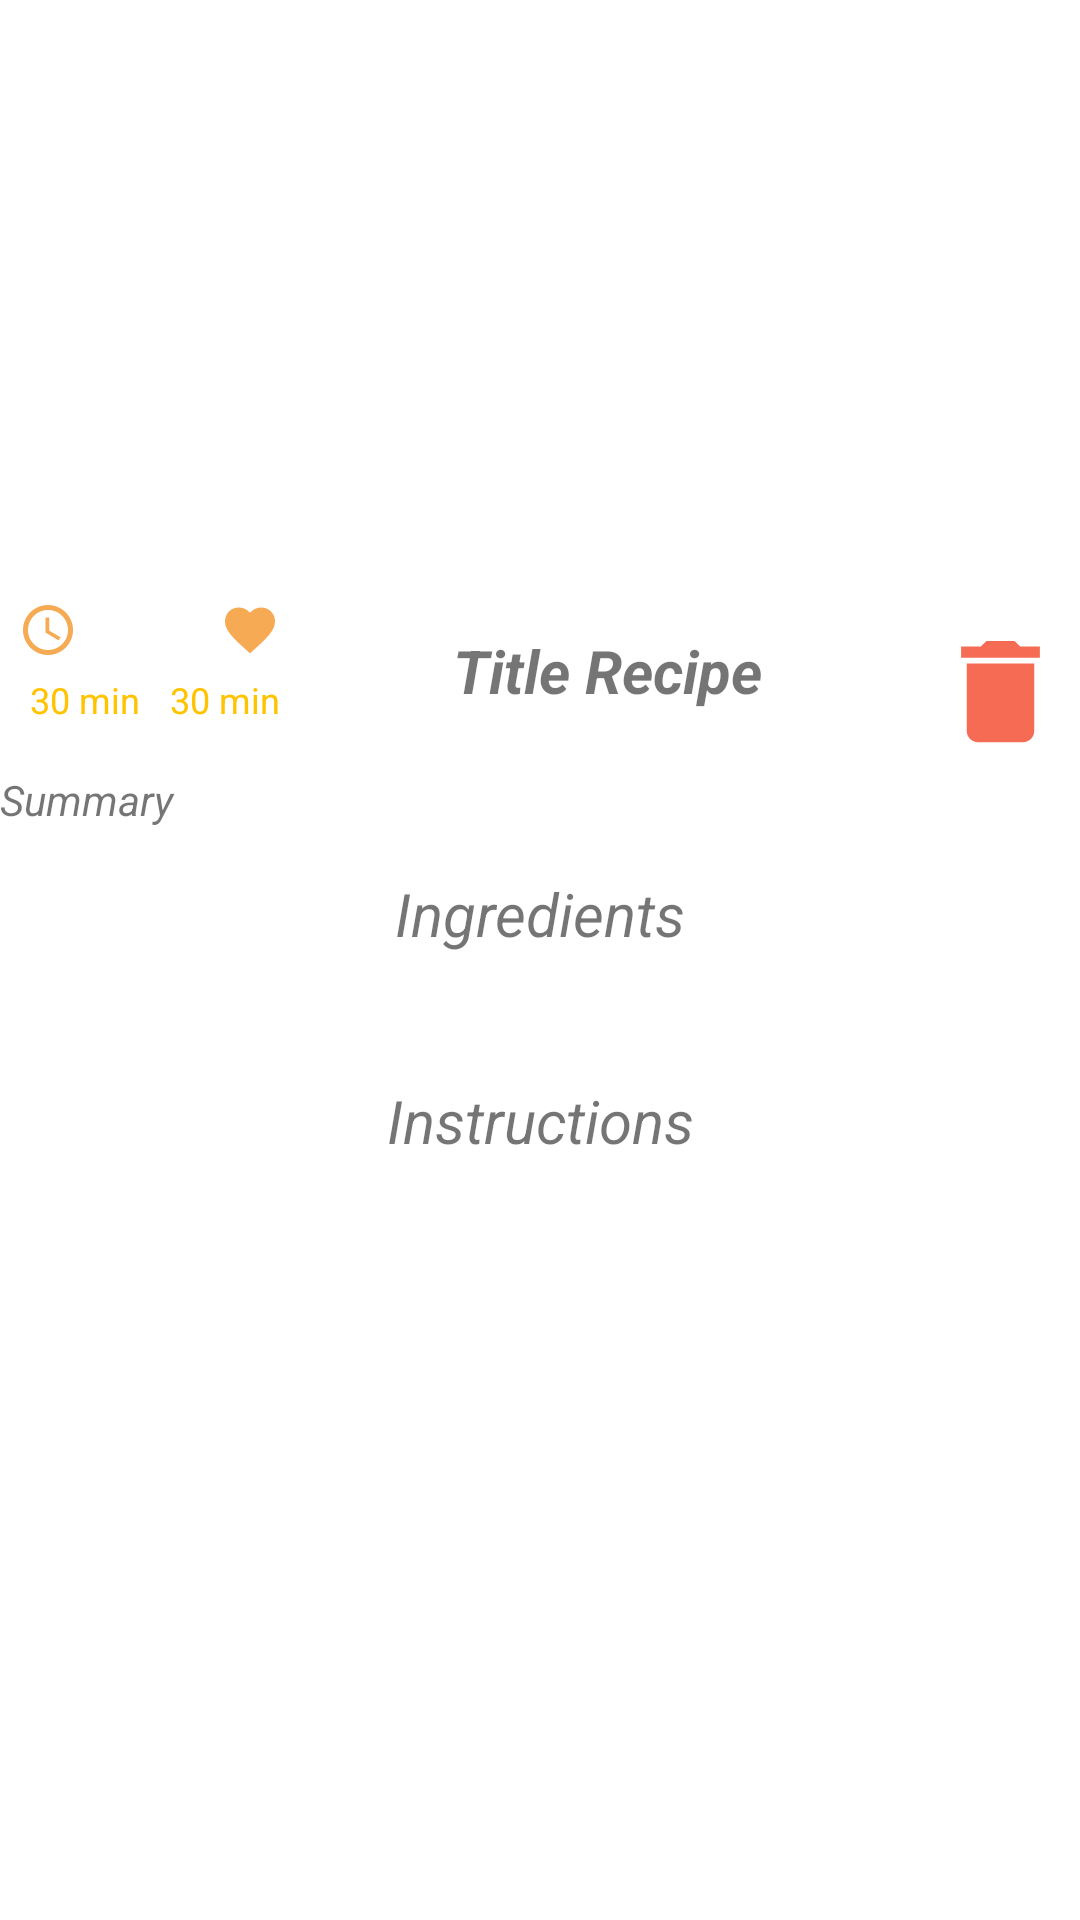

Icons on this 1080 × 1920 Android screen, each with its box as [x1, y1, x2, y2]:
aggregate likes details: [225, 607, 275, 653]
delete fav recipe details: [961, 641, 1040, 743]
ready time: [23, 605, 73, 655]
